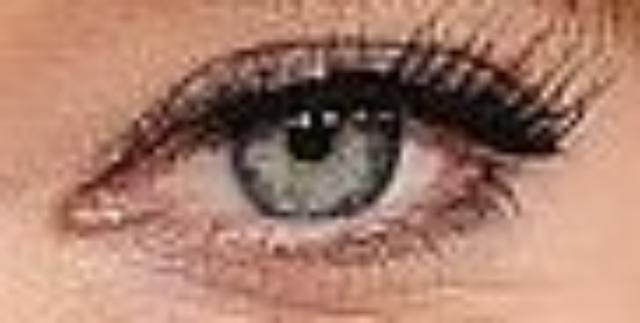eye: (225, 86, 402, 213)
